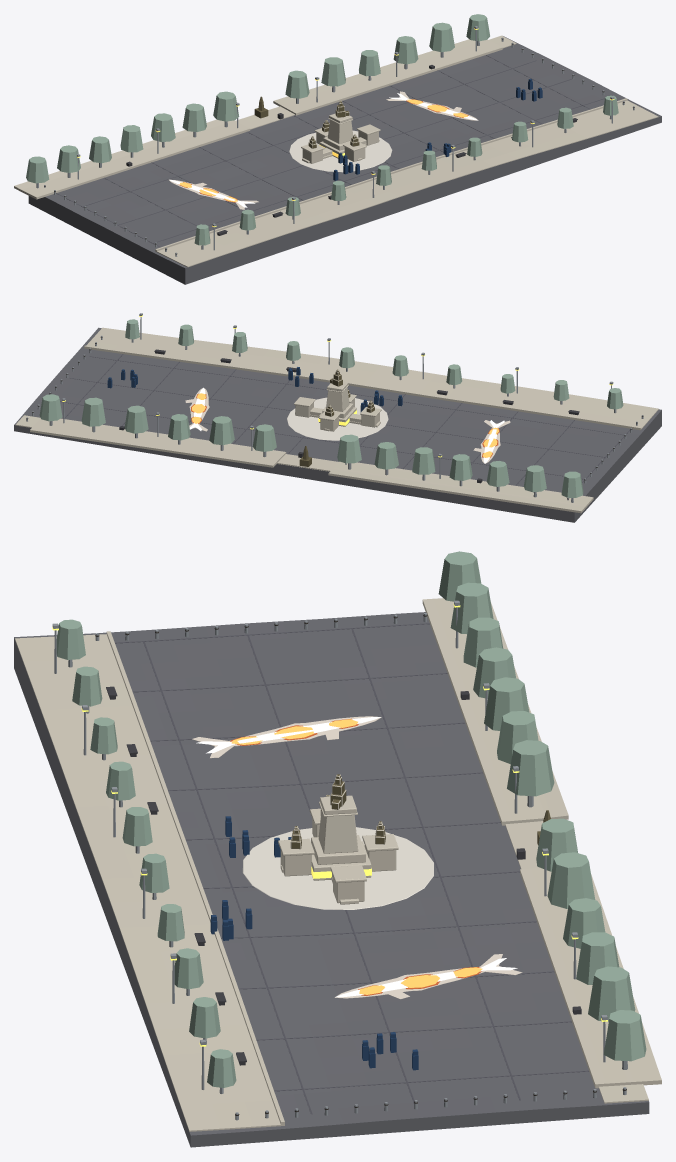
The model's file is fulton-plaza.glb.
3 renders of one model, top to bottom at view 1: azimuth 30°, elevation 25°; view 2: azimuth 150°, elevation 25°; view 3: azimuth 270°, elevation 25°, orthographic. The views are drawn at different scales.
Visible parts, largest first — view 1: deck, terrace_s, trees, bed_west_kerb, bed_east_kerb, monument, joints, apron, terrace_s_wall, koi_glow, walk_n, koi (+2 smaller); view 2: deck, terrace_s, trees, bed_west_kerb, bed_east_kerb, monument, joints, terrace_s_wall, apron, koi_glow, walk_n, people (+3 smaller); view 3: deck, terrace_s, trees, monument, bed_east_kerb, joints, bed_west_kerb, apron, koi_glow, terrace_s_wall, koi, people (+4 smaller).
Boxes of the visible parts, left/top/right/bottom form: deck: left=28, top=36, right=661, bottom=284; terrace_s: left=156, top=100, right=658, bottom=267; trees: left=26, top=14, right=618, bottom=249; bed_west_kerb: left=14, top=119, right=250, bottom=199; bed_east_kerb: left=273, top=39, right=502, bottom=115; monument: left=301, top=101, right=380, bottom=163; joints: left=56, top=55, right=604, bottom=247; apron: left=289, top=130, right=392, bottom=172; terrace_s_wall: left=155, top=98, right=627, bottom=251; koi_glow: left=169, top=93, right=477, bottom=207; walk_n: left=236, top=35, right=516, bottom=129; koi: left=168, top=91, right=478, bottom=209; deck: left=14, top=327, right=661, bottom=522; terrace_s: left=84, top=327, right=658, bottom=429; trees: left=39, top=319, right=623, bottom=502; bed_west_kerb: left=328, top=461, right=593, bottom=513; bed_east_kerb: left=30, top=418, right=286, bottom=467; monument: left=294, top=369, right=381, bottom=431; joints: left=60, top=354, right=630, bottom=485; terrace_s_wall: left=84, top=345, right=641, bottom=430; apron: left=287, top=397, right=388, bottom=440; koi_glow: left=189, top=387, right=504, bottom=463; walk_n: left=15, top=415, right=338, bottom=471; people: left=107, top=367, right=402, bottom=412; deck: left=14, top=612, right=649, bottom=1147; terrace_s: left=15, top=634, right=284, bottom=1131; trees: left=56, top=551, right=646, bottom=1093; monument: left=278, top=774, right=398, bottom=904; bed_east_kerb: left=520, top=868, right=661, bottom=1088; joints: left=115, top=623, right=589, bottom=1114; bed_west_kerb: left=422, top=598, right=568, bottom=825; apron: left=242, top=827, right=433, bottom=909; koi_glow: left=196, top=717, right=517, bottom=997; terrace_s_wall: left=106, top=631, right=284, bottom=1125; koi: left=192, top=716, right=522, bottom=999; people: left=210, top=816, right=418, bottom=1070.
Size of the model in its own units: 128 by 13.2 by 67.63.
